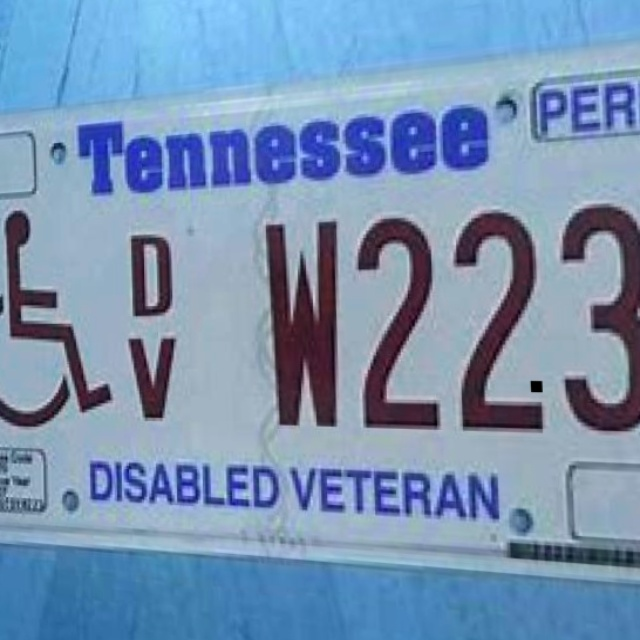ISA: (0, 202, 115, 436)
